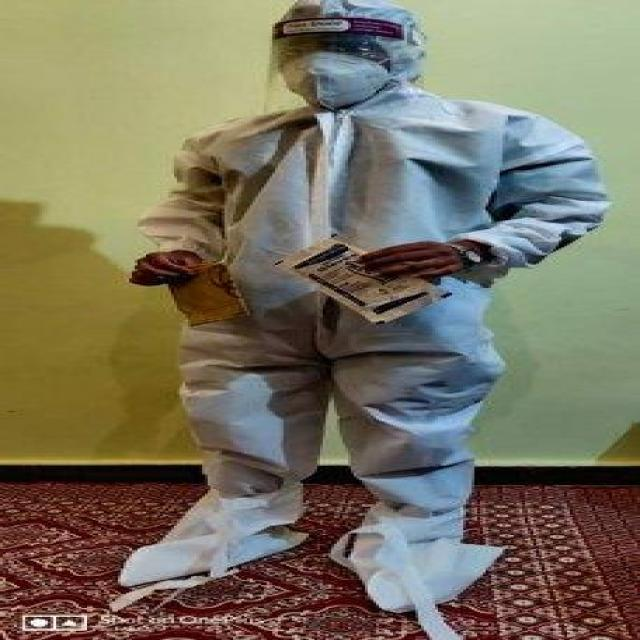Coverall: (90, 0, 623, 618)
Mask: (272, 51, 396, 106)
